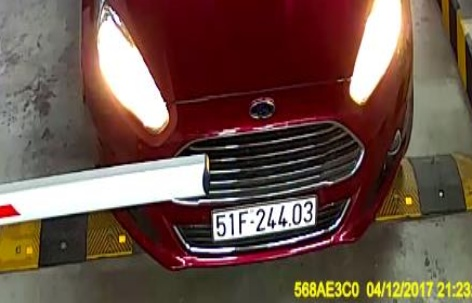plate: (211, 198, 319, 243)
